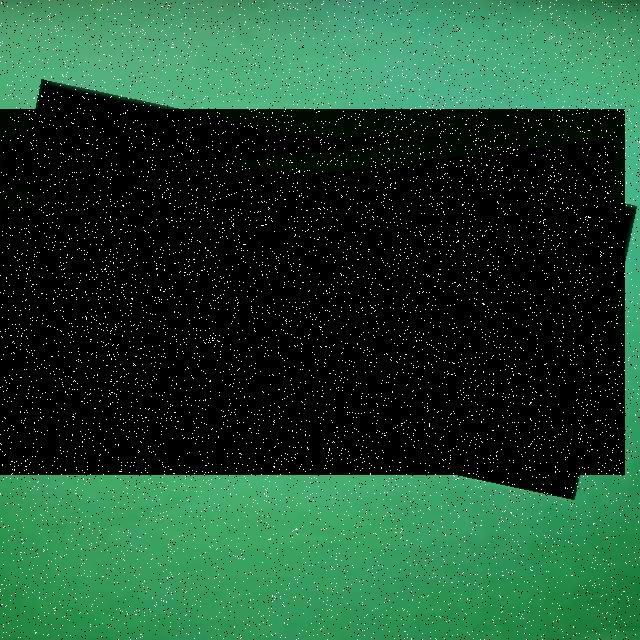lima puluh ribu rupiah: (0, 109, 625, 475)
